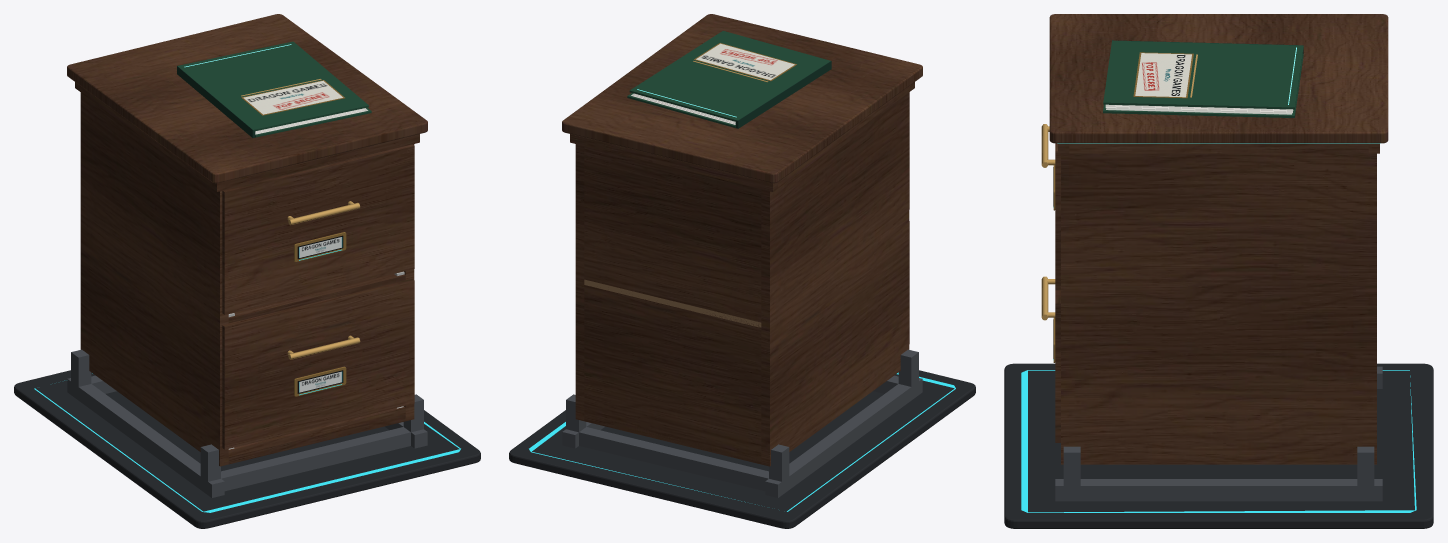
3 renders of one model, left to right at view 1: azimuth 30°, elevation 25°; view 2: azimuth 150°, elevation 25°; view 3: azimuth 270°, elevation 25°, orthographic. The views are drawn at different scales.
Visible parts, largest first — view 1: gaveteiro_lateral_esq, gaveteiro_tampo, gaveta_chaves_frente, gaveta_agenda_frente, base_peca, pasta_capa_capa, base_viga_frente, base_patim_esq, gaveteiro_borda_frente, pasta_capa_janela, gaveteiro_travessa_frente, gaveteiro_travessa_baixo (+6 smaller); view 2: gaveteiro_traseira, gaveteiro_lateral_esq, gaveteiro_tampo, base_peca, pasta_capa_capa, base_viga_tras, base_patim_esq, gaveteiro_lateral_dir, gaveteiro_borda_tras, pasta_capa_janela, gaveteiro_divisoria, gaveteiro_fundo (+5 smaller); view 3: gaveteiro_lateral_dir, gaveteiro_tampo, base_peca, pasta_capa_capa, base_patim_dir, gaveteiro_borda_dir, pasta_capa_janela, base_peca_linha, gaveta_chaves_frente, pasta_contracapa, base_montante_frente_dir, base_montante_tras_dir (+1 smaller).
Boxes of the visible parts, bbox=[...] form: gaveteiro_lateral_esq: bbox=[80, 92, 228, 466]; gaveteiro_tampo: bbox=[67, 14, 427, 183]; gaveta_chaves_frente: bbox=[222, 279, 414, 449]; gaveta_agenda_frente: bbox=[222, 144, 414, 314]; base_peca: bbox=[14, 370, 480, 528]; pasta_capa_capa: bbox=[178, 41, 368, 131]; base_viga_frente: bbox=[221, 427, 410, 491]; base_patim_esq: bbox=[67, 378, 224, 497]; gaveteiro_borda_frente: bbox=[212, 134, 419, 191]; pasta_capa_janela: bbox=[243, 80, 342, 114]; gaveteiro_travessa_frente: bbox=[228, 274, 405, 323]; gaveteiro_travessa_baixo: bbox=[228, 406, 405, 456]; gaveteiro_traseira: bbox=[584, 146, 761, 464]; gaveteiro_lateral_esq: bbox=[761, 92, 909, 466]; gaveteiro_tampo: bbox=[562, 14, 922, 183]; base_peca: bbox=[509, 370, 975, 528]; pasta_capa_capa: bbox=[629, 31, 830, 121]; base_viga_tras: bbox=[579, 427, 768, 491]; base_patim_esq: bbox=[765, 378, 922, 497]; gaveteiro_lateral_dir: bbox=[575, 144, 584, 420]; gaveteiro_borda_tras: bbox=[570, 134, 777, 191]; pasta_capa_janela: bbox=[696, 43, 794, 80]; gaveteiro_divisoria: bbox=[584, 279, 761, 327]; gaveteiro_fundo: bbox=[584, 414, 760, 463]; gaveteiro_lateral_dir: bbox=[1061, 153, 1376, 464]; gaveteiro_tampo: bbox=[1049, 14, 1388, 143]; base_peca: bbox=[1004, 363, 1433, 528]; pasta_capa_capa: bbox=[1103, 40, 1303, 109]; base_patim_dir: bbox=[1055, 479, 1382, 501]; gaveteiro_borda_dir: bbox=[1069, 143, 1368, 153]; pasta_capa_janela: bbox=[1135, 53, 1191, 97]; base_peca_linha: bbox=[1021, 370, 1416, 512]; gaveta_chaves_frente: bbox=[1055, 290, 1060, 442]; pasta_contracapa: bbox=[1103, 54, 1303, 117]; base_montante_frente_dir: bbox=[1063, 446, 1080, 493]; base_montante_tras_dir: bbox=[1357, 446, 1374, 493].
Size of the model in its own units: 0.66 by 0.7571 by 0.76.
Materials: 27 (7 with a texture image).
